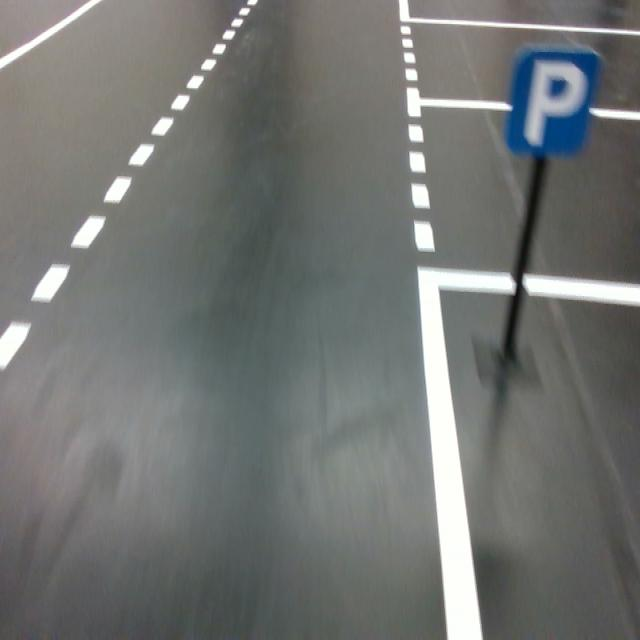parking-sign: (503, 44, 604, 160)
